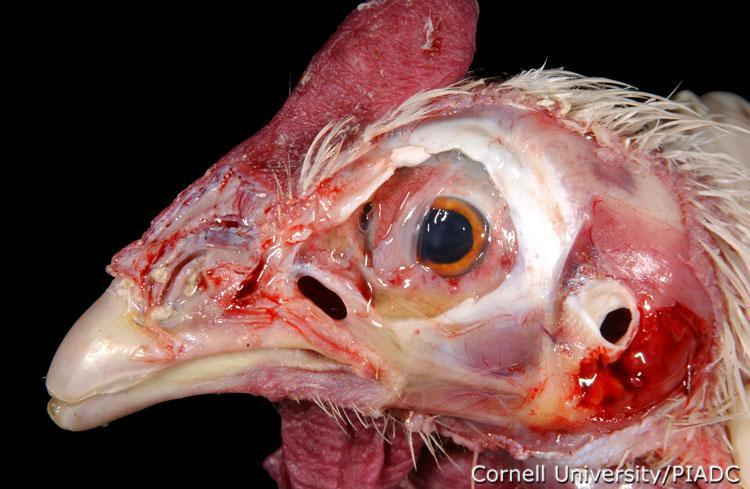AbNormal: (47, 0, 750, 489)
